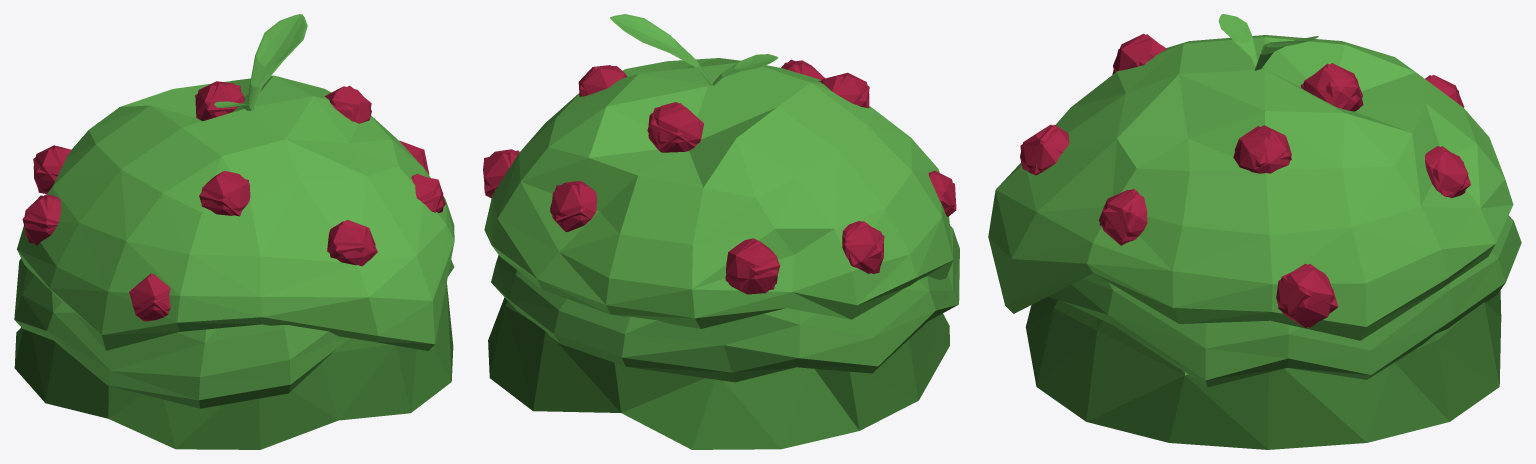
The model's file is bush_big_red.fbx.
3 renders of one model, left to right at view 1: azimuth 30°, elevation 25°; view 2: azimuth 150°, elevation 25°; view 3: azimuth 270°, elevation 25°, orthographic. The views are drawn at different scales.
Visible parts, largest first — view 1: bush_big_red_LOD0, fruits.001, fruits.003; view 2: bush_big_red_LOD0, fruits.001, fruits.003; view 3: bush_big_red_LOD0, fruits.001, fruits.003.
Part boxes in pixels (left/top/right/bottom): bush_big_red_LOD0: left=14, top=14, right=454, bottom=449; fruits.001: left=24, top=81, right=443, bottom=321; fruits.003: left=22, top=83, right=445, bottom=317; bush_big_red_LOD0: left=484, top=14, right=959, bottom=449; fruits.001: left=483, top=60, right=954, bottom=294; fruits.003: left=484, top=59, right=956, bottom=290; bush_big_red_LOD0: left=988, top=14, right=1521, bottom=449; fruits.001: left=1020, top=33, right=1468, bottom=327; fruits.003: left=1020, top=34, right=1470, bottom=327.
Size of what is drawn, in the model's own units: 270 by 197 by 271.
